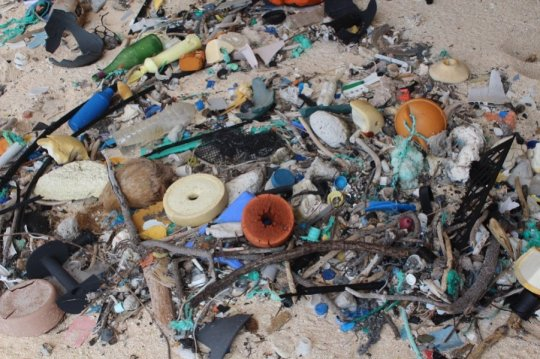litter: (113, 95, 231, 152), (130, 255, 216, 321), (31, 162, 117, 227), (38, 64, 117, 130), (152, 165, 224, 227), (146, 33, 214, 77), (505, 238, 540, 322), (101, 36, 170, 78), (402, 94, 448, 153), (463, 68, 522, 110), (241, 199, 292, 247), (352, 193, 422, 222), (262, 161, 316, 194), (433, 51, 471, 89), (303, 218, 342, 243)
